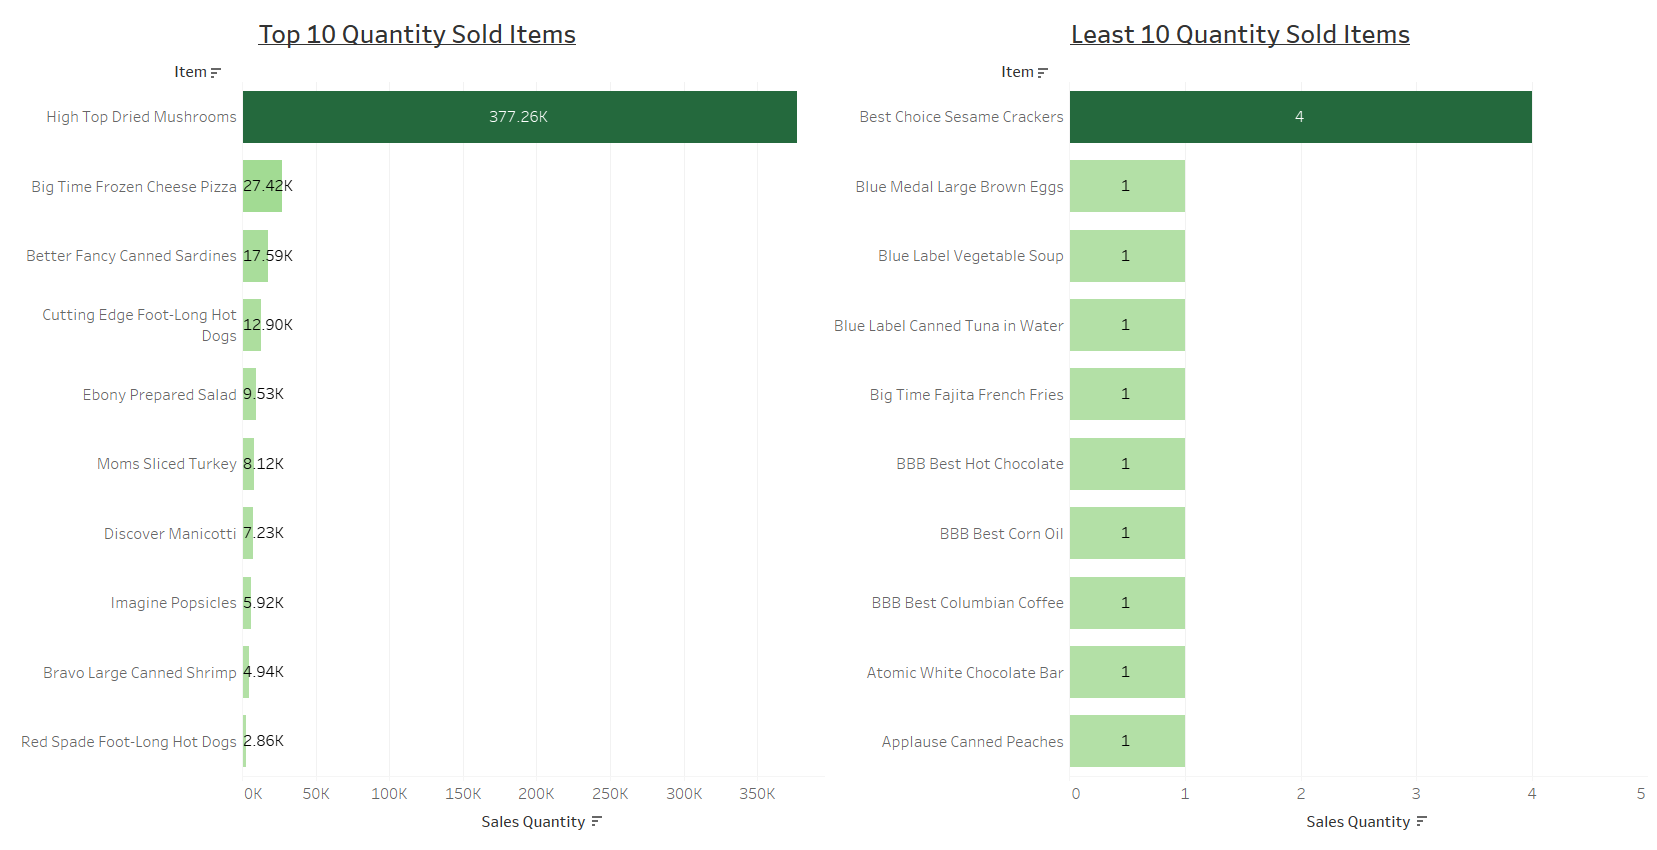

The dashboard page shown, as its layout file describes it:
{"tool":"tableau","page":{"name":"Top and Least Sold Items","canvas":[1000,1000],"units":"permille","ordinal":4},"visuals":[{"type":"worksheet","title":"Top 10 Quantity Items","mark":"Automatic","rows":["Item"],"cols":["Sales Quantity"],"box":[4.8,9.4,495.2,981.2]},{"type":"worksheet","title":"Least 10 Quantity Item","mark":"Automatic","rows":["Item"],"cols":["Sales Quantity"],"box":[500,9.4,495.2,981.2]}]}

Visuals, with their boxes on the dashboard's canvas, which has no fixed pixel size, in thousandths of its width and height (x1, y1, x2, y2). These are canvas units, not pixel positions in the 1657x850 screenshot, which may show the page scaled, cropped or inside an application window:
"Top 10 Quantity Items" worksheet: 5:9:500:991
"Least 10 Quantity Item" worksheet: 500:9:995:991
